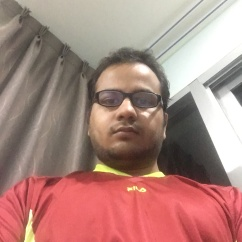glasses: (92, 92, 164, 109)
